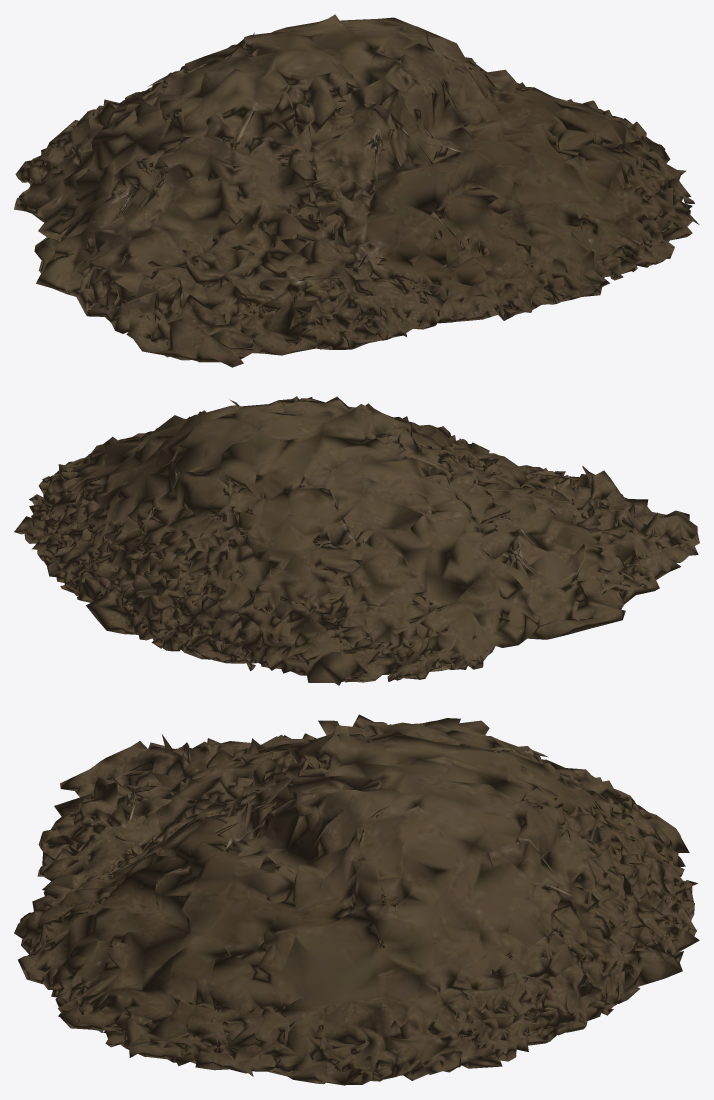
The model's file is soil.glb.
3 renders of one model, top to bottom at view 1: azimuth 30°, elevation 25°; view 2: azimuth 150°, elevation 25°; view 3: azimuth 270°, elevation 25°, orthographic. The views are drawn at different scales.
Size of the model in its own units: 1.88 by 0.4587 by 1.63.
Materials: 1 (1 with a texture image).
